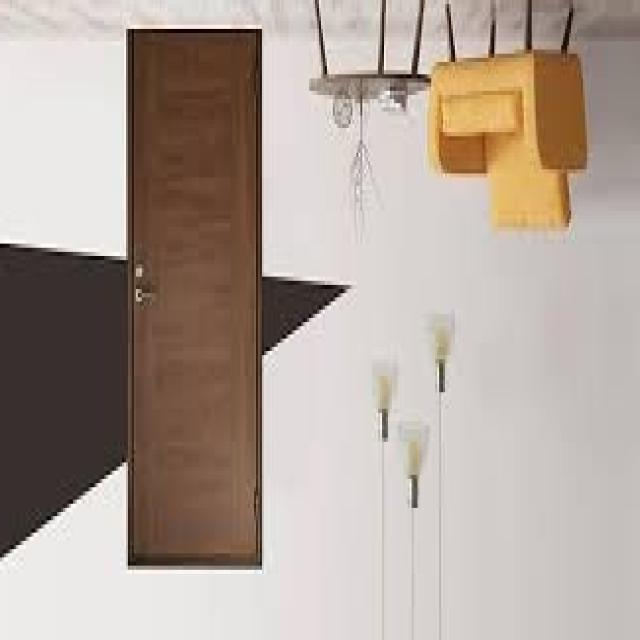door: (127, 29, 263, 570)
